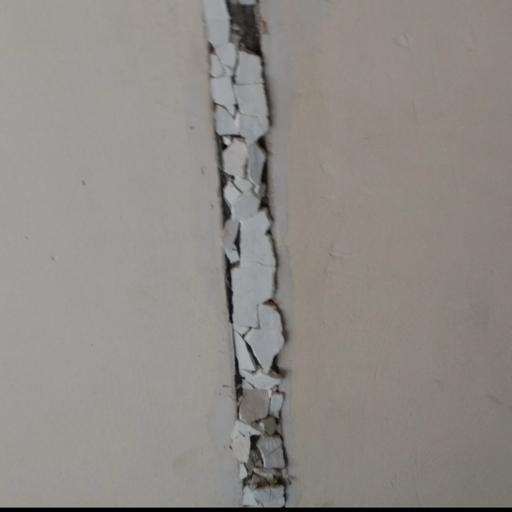spalling: (196, 0, 306, 512)
